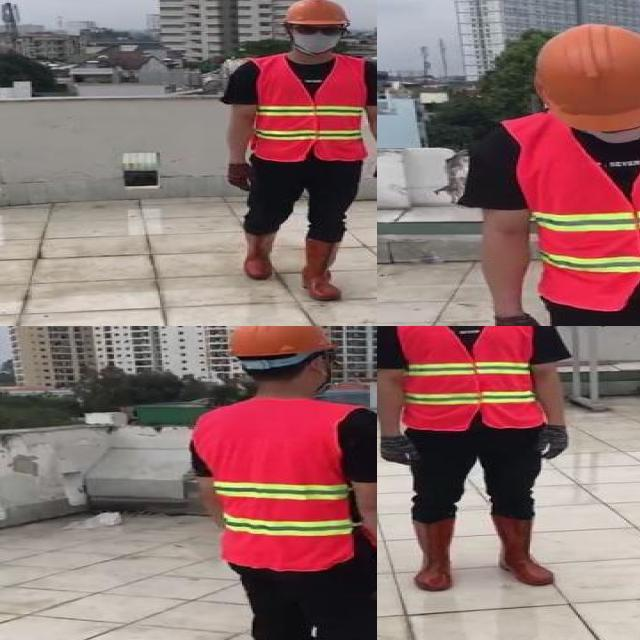boots: (493, 515, 560, 587), (409, 519, 455, 591), (300, 239, 345, 301), (238, 229, 278, 281)
face_mask: (286, 22, 347, 54)
glasses: (287, 19, 353, 36)
hand_glove: (377, 436, 420, 469), (224, 162, 258, 193), (539, 428, 573, 458), (496, 313, 553, 326)
head_helmet: (524, 24, 640, 129), (224, 326, 336, 359), (278, 0, 351, 25)
person: (178, 326, 377, 640), (377, 326, 586, 601), (473, 22, 640, 326), (216, 0, 377, 307)
vest: (189, 397, 363, 571), (507, 106, 640, 307), (395, 326, 546, 432), (244, 54, 368, 161)
